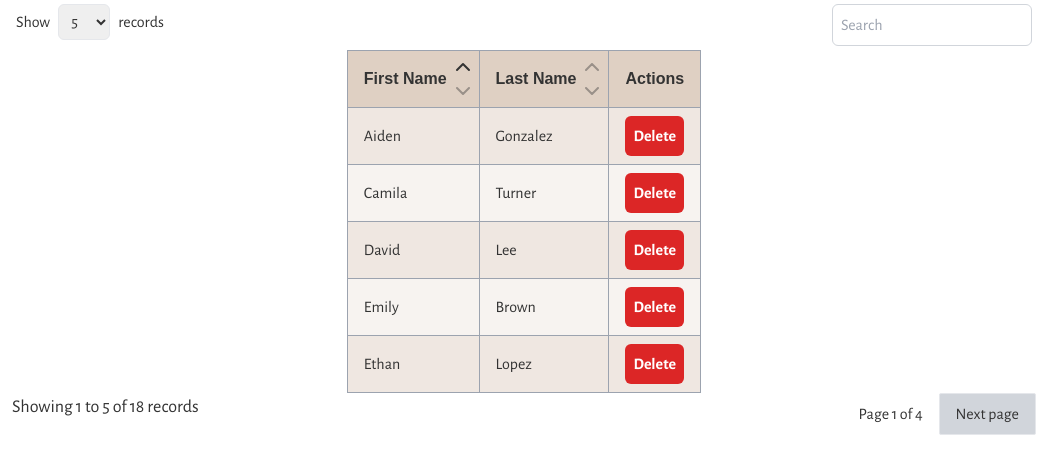
Scenario: Given the paginated table component, › it should reorder the table correctly
Click the button with test id "lastName-desc-reorder". click: [592, 91]
box: x1=580 y1=79 x2=604 y2=103
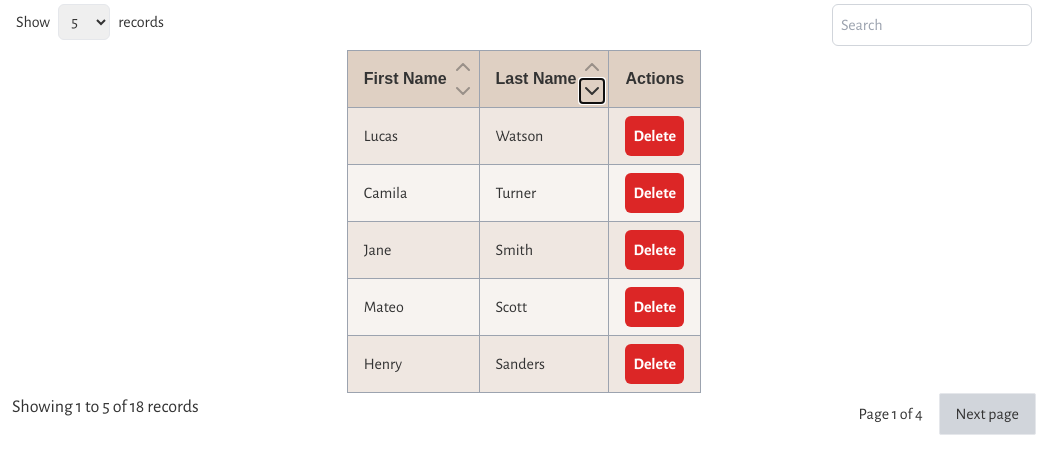
expect the cell with test id "table-data-lastName" reads "Watson": met, box x1=496 y1=128 x2=543 y2=144
Click the button with test id "firstName-asc-reorder". click: [462, 67]
box: x1=450 y1=55 x2=474 y2=79
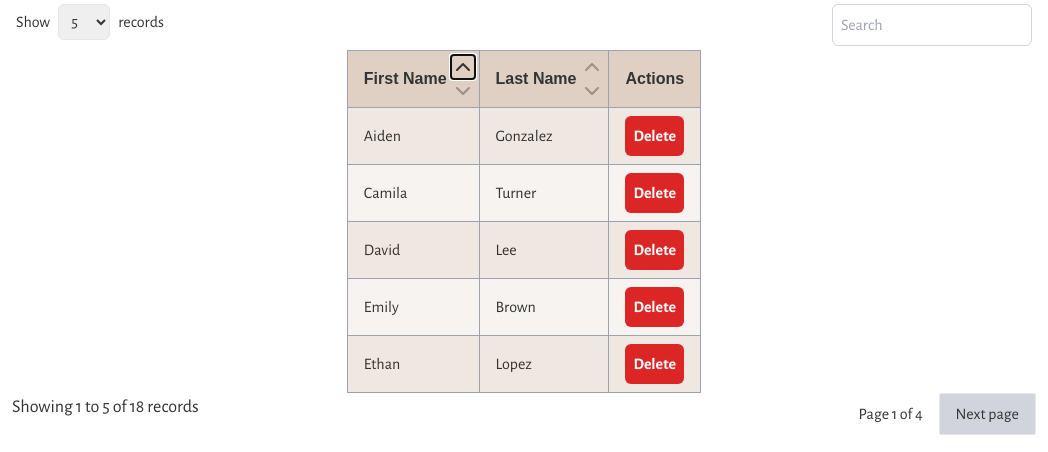
expect the cell with test id "table-data-firstName" reads "Aiden": met, box x1=364 y1=128 x2=401 y2=144
